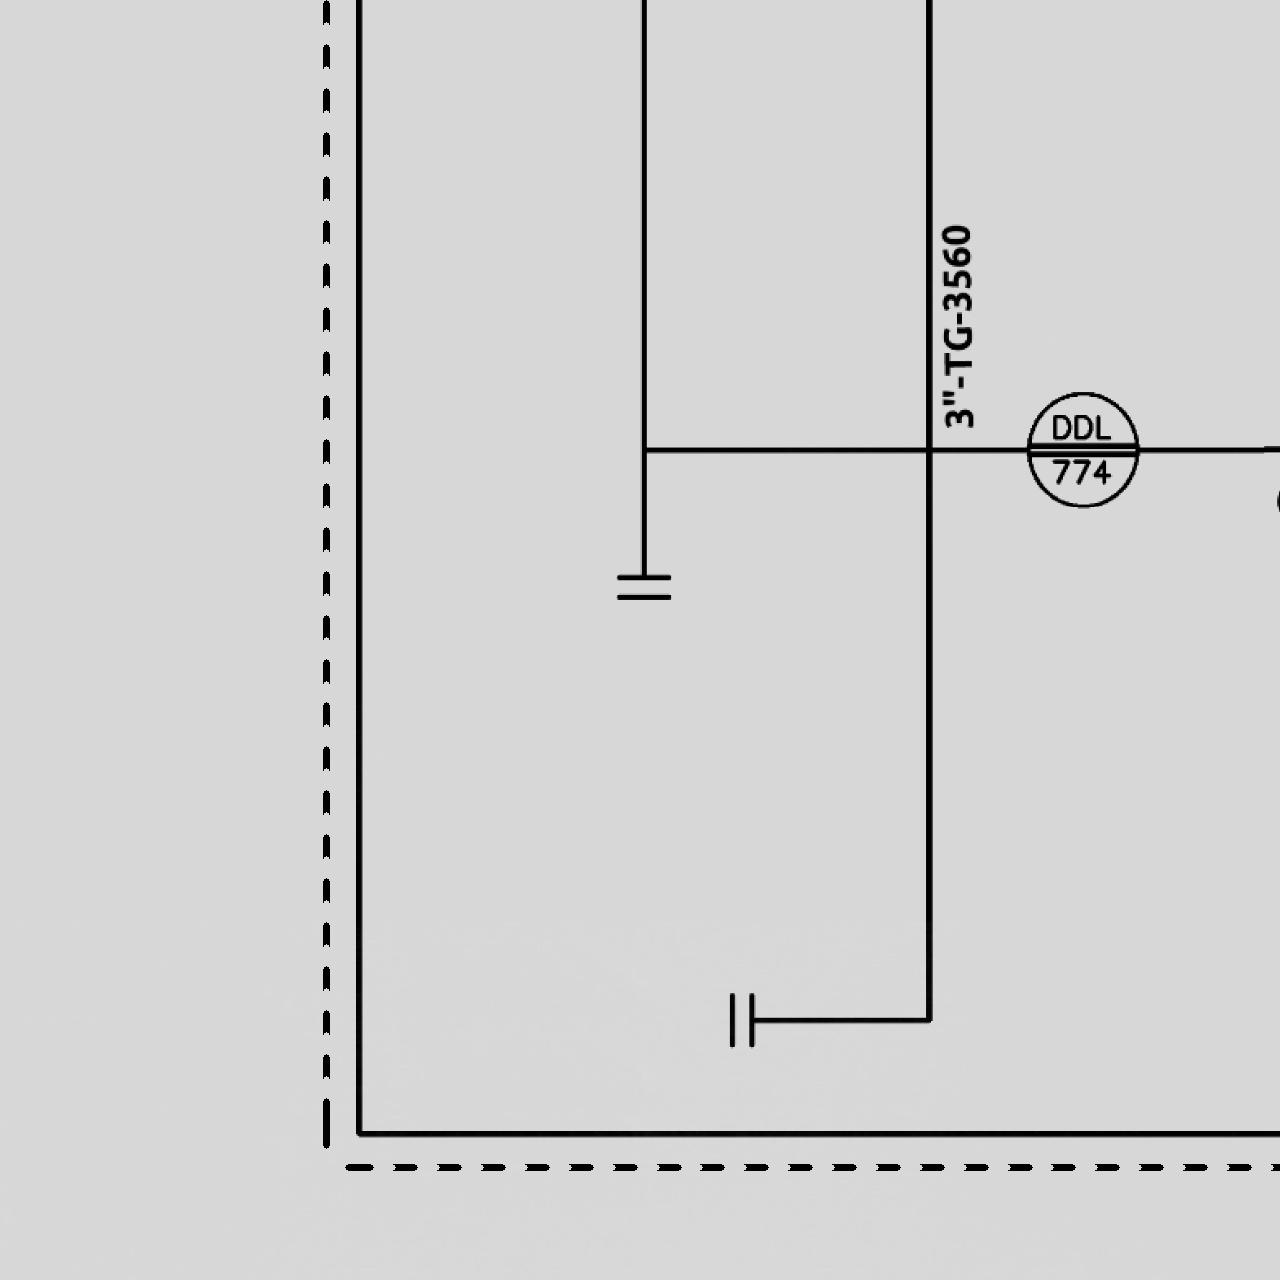Control-Panel: (1017, 386, 1146, 511)
